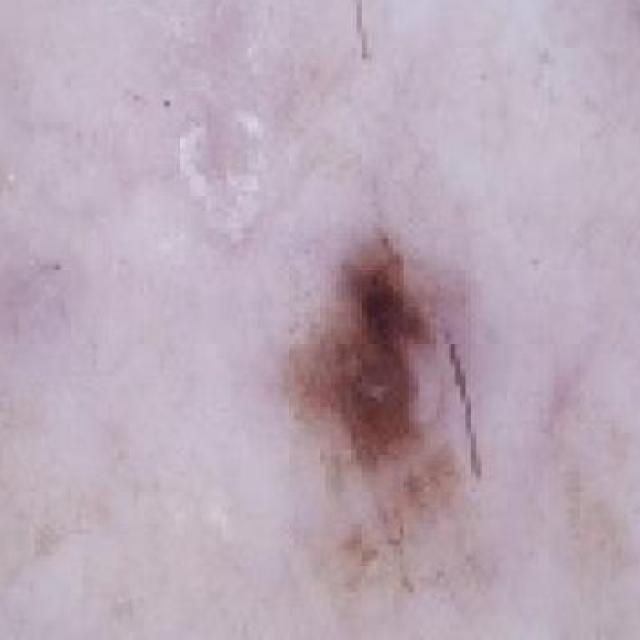BKL: (171, 129, 574, 605)
